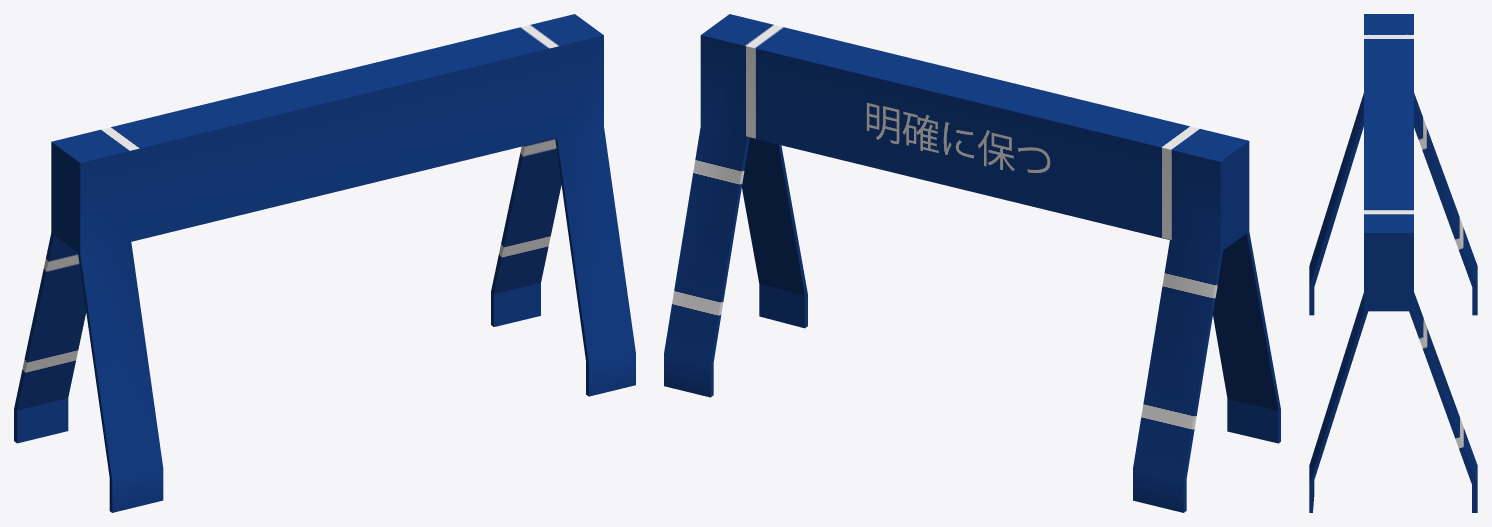
Rendered from barrier.fbx.
The picture shows the model from 3 angles, left to right: view 1: azimuth 30°, elevation 25°; view 2: azimuth 150°, elevation 25°; view 3: azimuth 270°, elevation 25°; orthographic projection. The views are drawn at different scales.
Parts seen in each view (by area): view 1: barrier; view 2: barrier; view 3: barrier.
Boxes of the visible parts, x1=… form: barrier: x1=14, y1=14, x2=635, y2=512; barrier: x1=664, y1=14, x2=1280, y2=512; barrier: x1=1309, y1=14, x2=1477, y2=512.
Bounding box in the file's own units: 127 × 75.67 × 41.17.
Materials: 1 (1 with a texture image).
